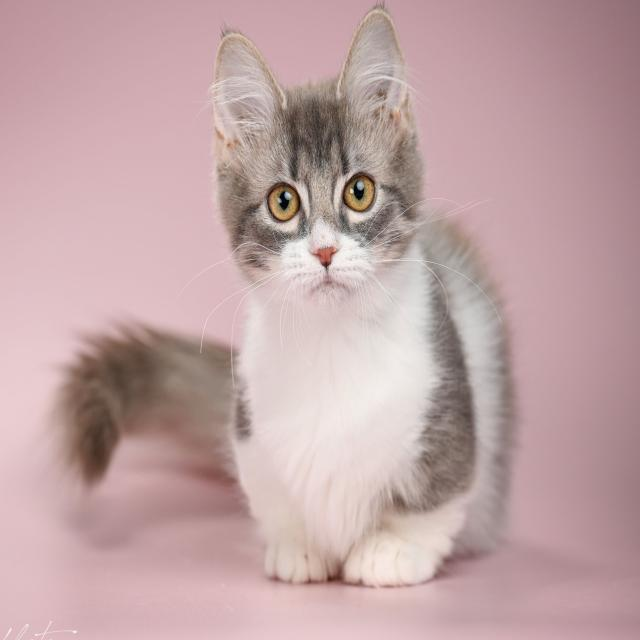Munchkin: (48, 0, 527, 599)
